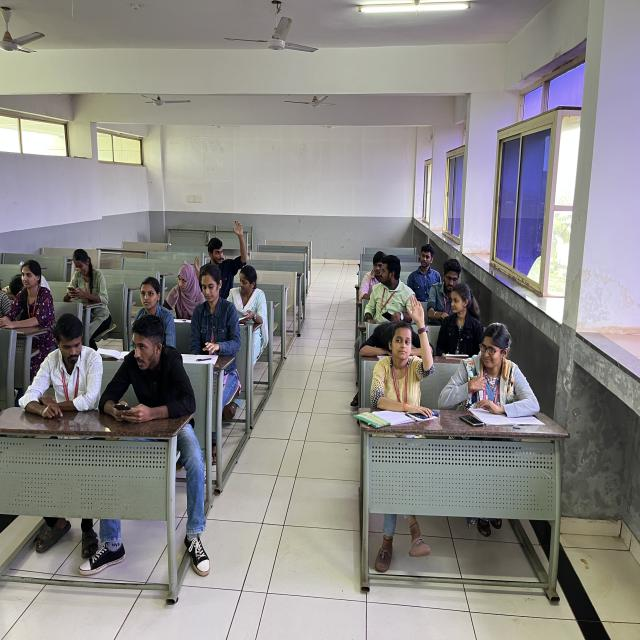Hand Rising: (369, 290, 437, 420), (202, 211, 258, 274)
Reading: (182, 264, 252, 362)
Using Phone: (97, 314, 195, 432), (356, 251, 423, 328), (57, 245, 112, 316)
Writing: (216, 259, 275, 336), (157, 256, 205, 324)
